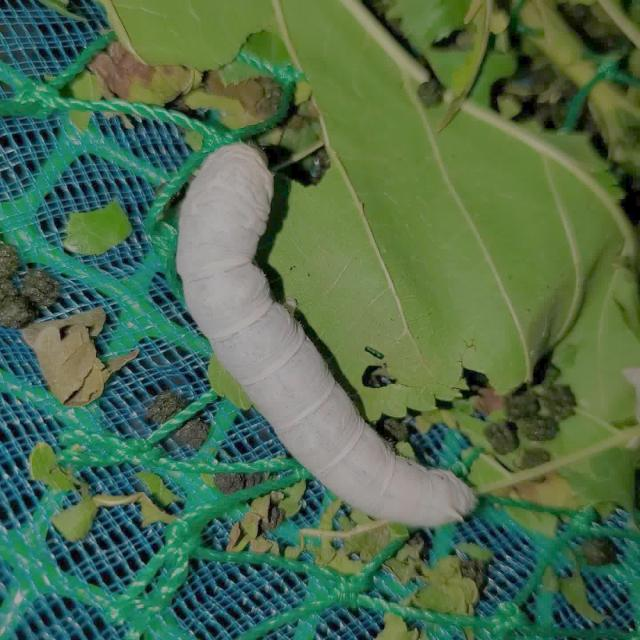Healthy: (166, 131, 481, 529)
